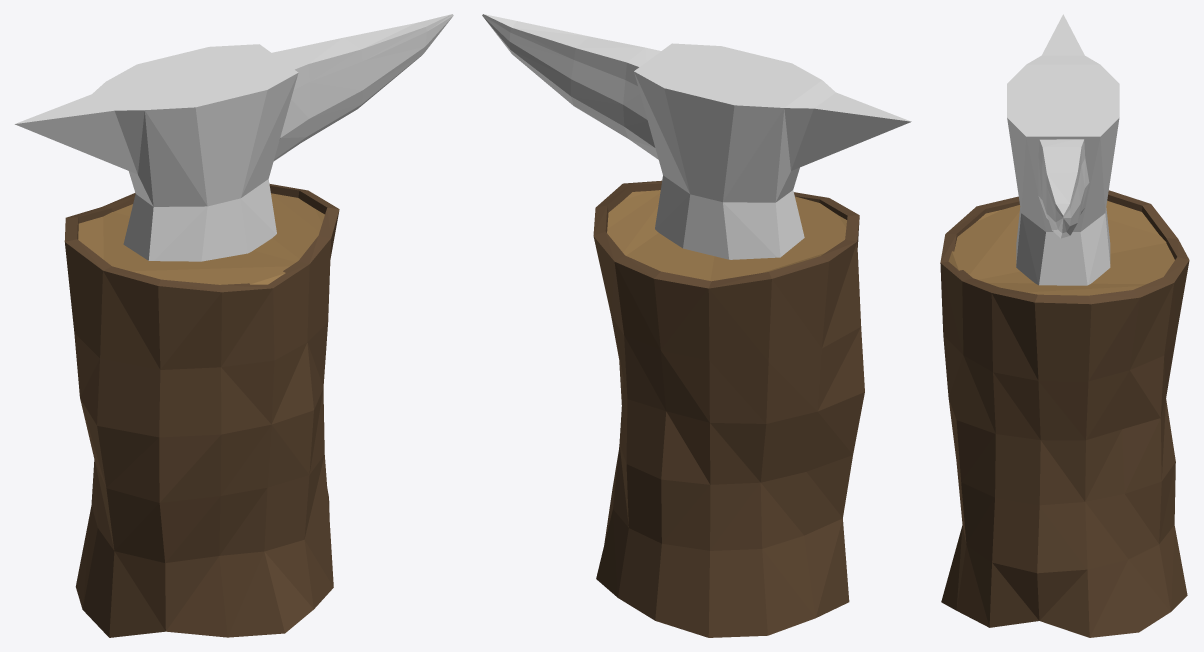
Rendered from Anvil.dae.
3 views of the same model, side by side, from view 1: azimuth 30°, elevation 25°; view 2: azimuth 150°, elevation 25°; view 3: azimuth 270°, elevation 25° (orthographic). The views are drawn at different scales.
Parts seen in each view (by area): view 1: Cylinder.001, Cube, Cone, Cylinder; view 2: Cylinder.001, Cube, Cone, Cylinder; view 3: Cylinder.001, Cube, Cylinder, Cone.
Boxes of the visible parts, x1=… form: Cylinder.001: x1=64, y1=183, x2=339, y2=637; Cube: x1=14, y1=44, x2=298, y2=261; Cone: x1=272, y1=14, x2=453, y2=161; Cylinder: x1=78, y1=193, x2=324, y2=284; Cylinder.001: x1=593, y1=180, x2=864, y2=637; Cube: x1=634, y1=43, x2=911, y2=259; Cone: x1=482, y1=14, x2=660, y2=159; Cylinder: x1=607, y1=190, x2=846, y2=281; Cylinder.001: x1=940, y1=190, x2=1189, y2=637; Cube: x1=1007, y1=14, x2=1119, y2=285; Cylinder: x1=948, y1=201, x2=1174, y2=295; Cone: x1=1038, y1=139, x2=1089, y2=238.
Size of the model in its own units: 2.84 by 1.46 by 3.25.
